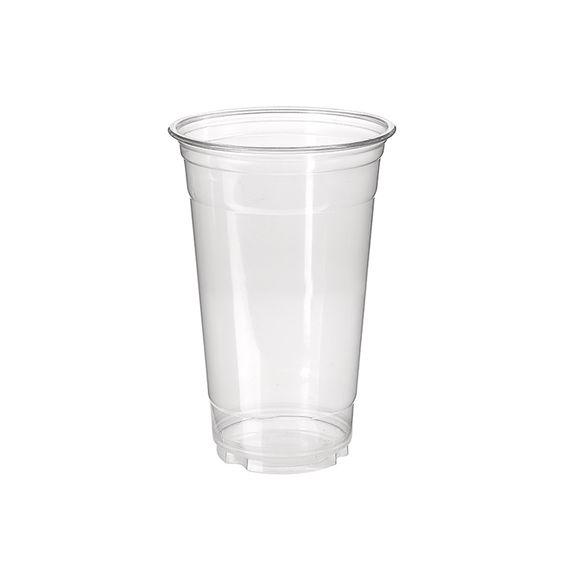PP: (168, 101, 398, 476)
